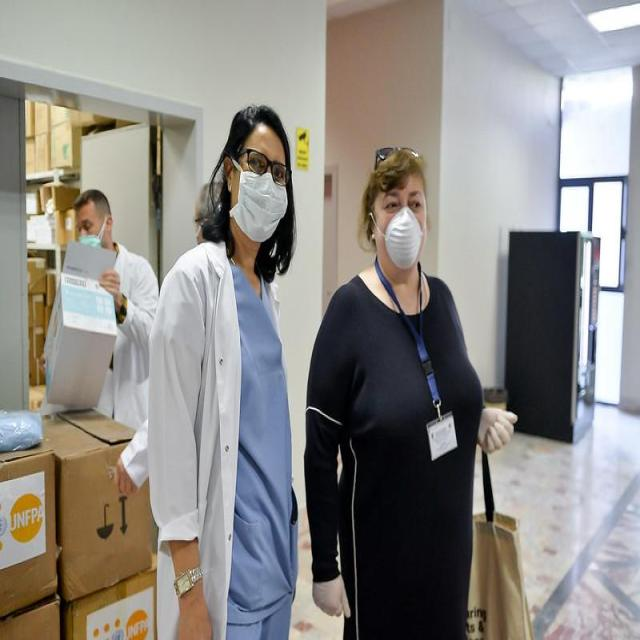Gloves: (478, 401, 519, 455), (311, 576, 356, 622)
Mask: (236, 170, 288, 242), (384, 206, 424, 270)
